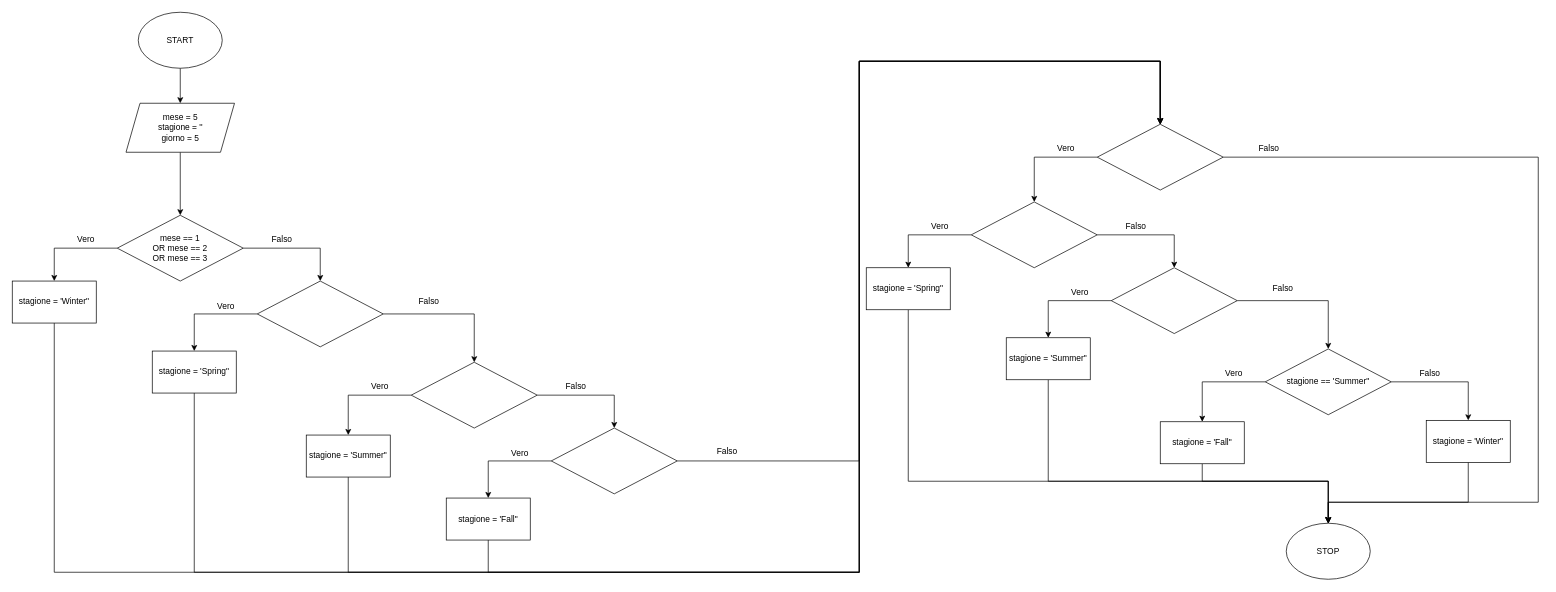
The diagram is 1556 pixels wide and 592 high, and some of its shapes have lost their labels. Here are the shapes that lost their labels. From the top down, the centre of each, then its label:
(1160,157): mese % 3 == 0 AND giorno >= 21
(1034,234): stagione == 'Winter"
(320,313): mese == 4 OR mese == 5 OR mese == 6
(1174,300): stagione == 'Spring"
(474,395): mese == 7 OR mese == 8 OR mese == 9
(614,460): mese == 10 OR mese == 11 OR mese == 12
